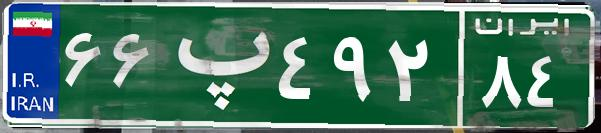2: (385, 28, 445, 110)
4: (273, 28, 330, 110), (525, 38, 570, 115)
6: (57, 26, 110, 107), (110, 28, 158, 105)
8: (475, 38, 525, 113)
9: (330, 28, 385, 110)
پ: (158, 15, 273, 115)
